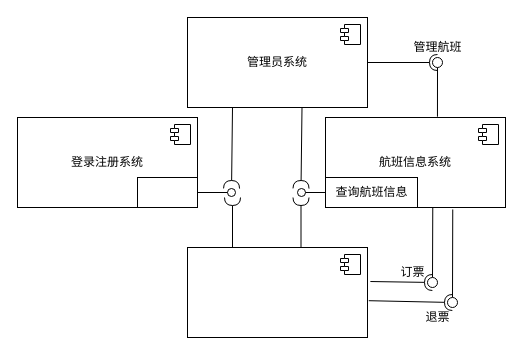
This 523x355 diagram has some shape labels left out. The centre of each missing label's shape, as x and y in pixels:
"用户订票系统" belongs at pixel 277 292.
"登录注册" belongs at pixel 167 192.
